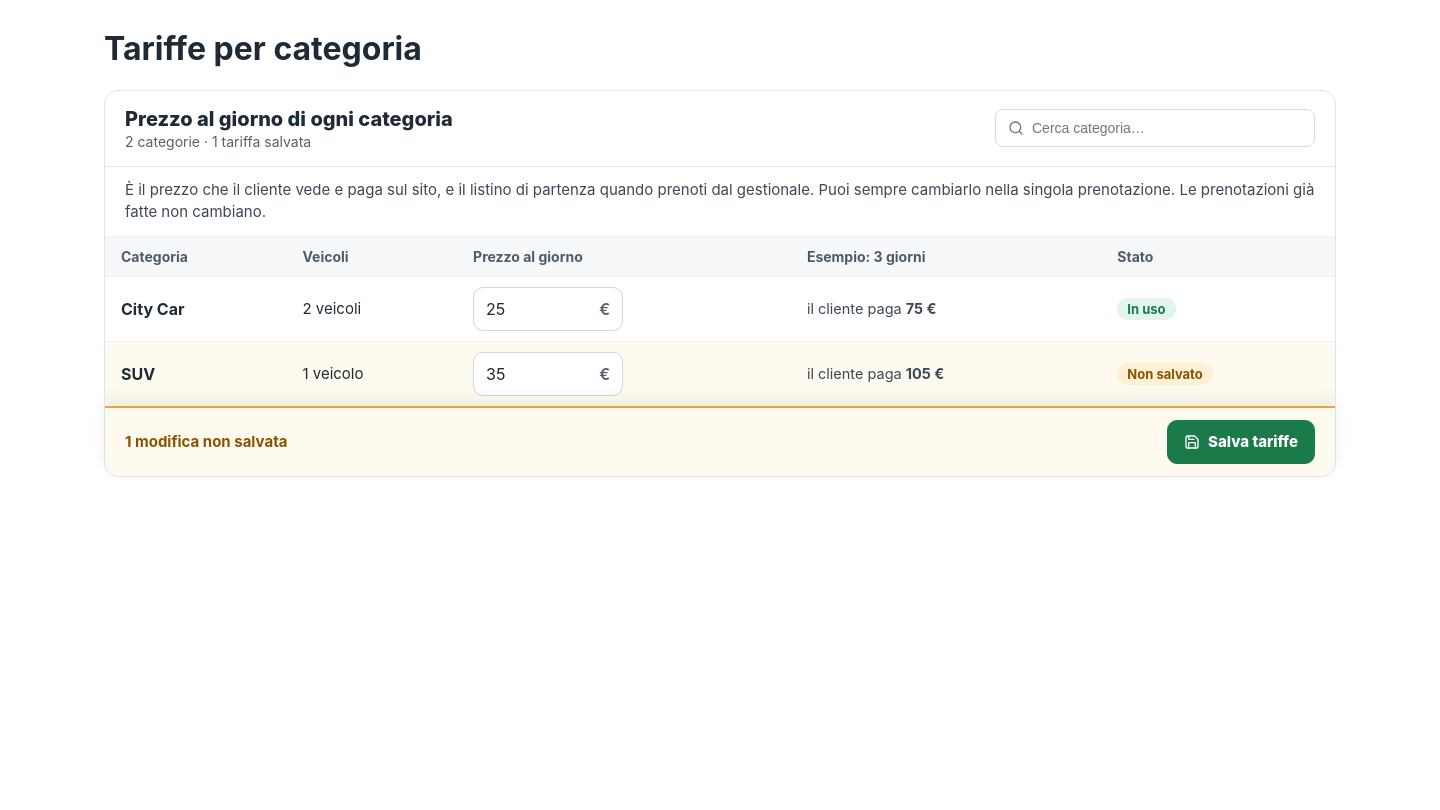
un campo toccato non si aggiorna più da solo, ma segnala se un altro lo cambia nel frattempo
Replace the text in the field named "Prezzo al giorno City Car" with "27" at (548, 309), box [473,287,623,331]
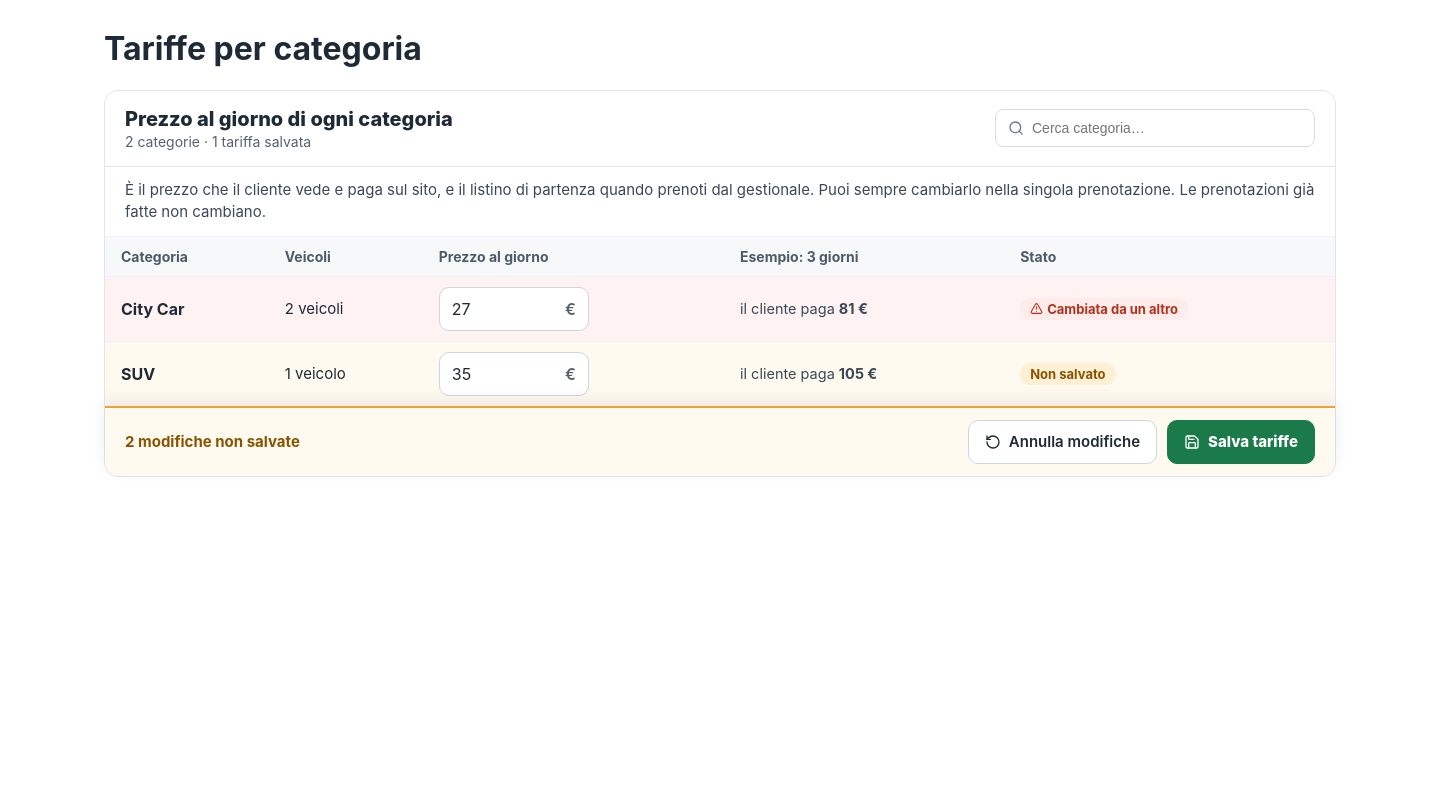
Result: the text "Cambiata da un altro" is shown at [1020,298,1188,320]
Click the button "Salva tariffe" at (1241, 442), box [1167,420,1315,464]
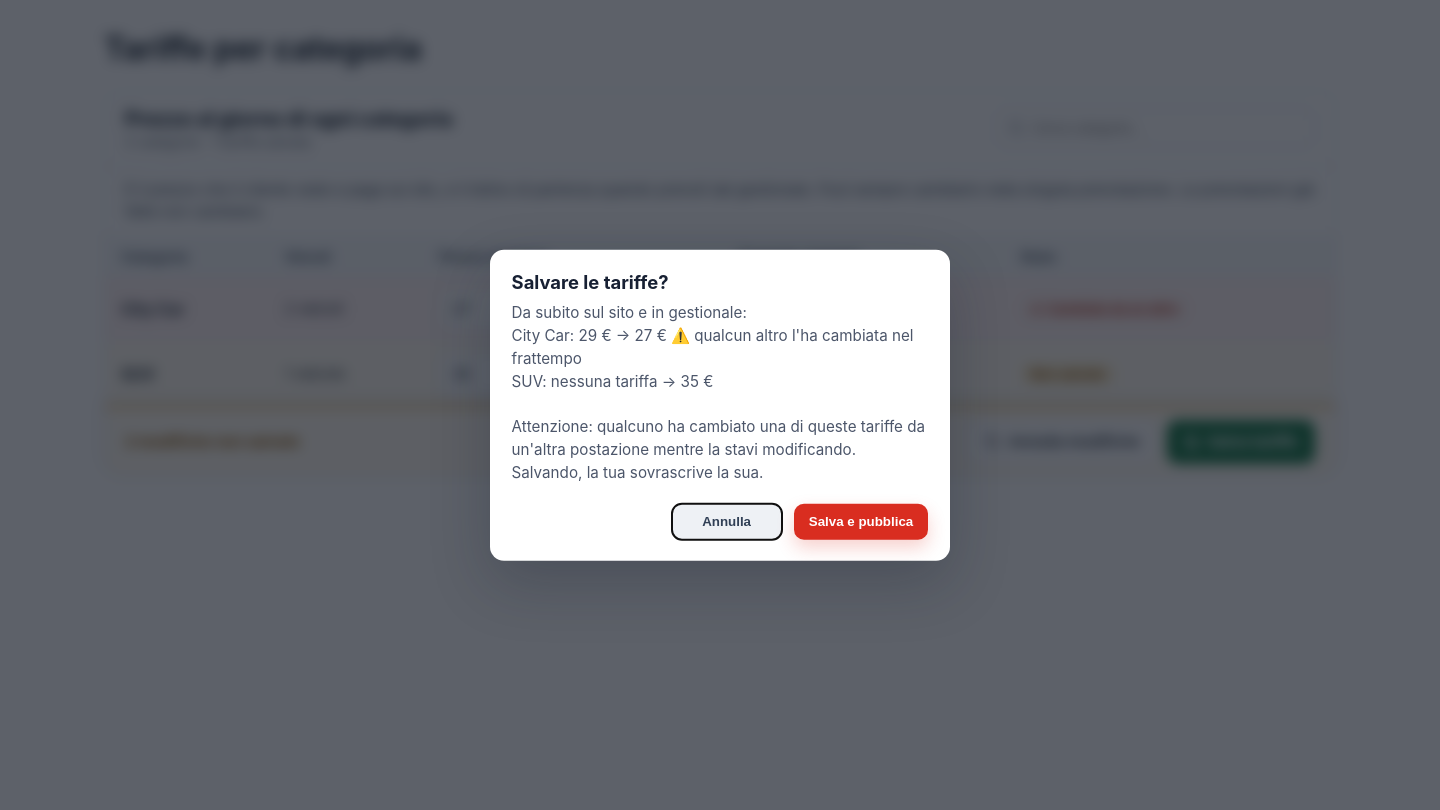
Result: the text "qualcun altro l'ha cambiata nel frattempo" is shown at [512,303,925,482]
